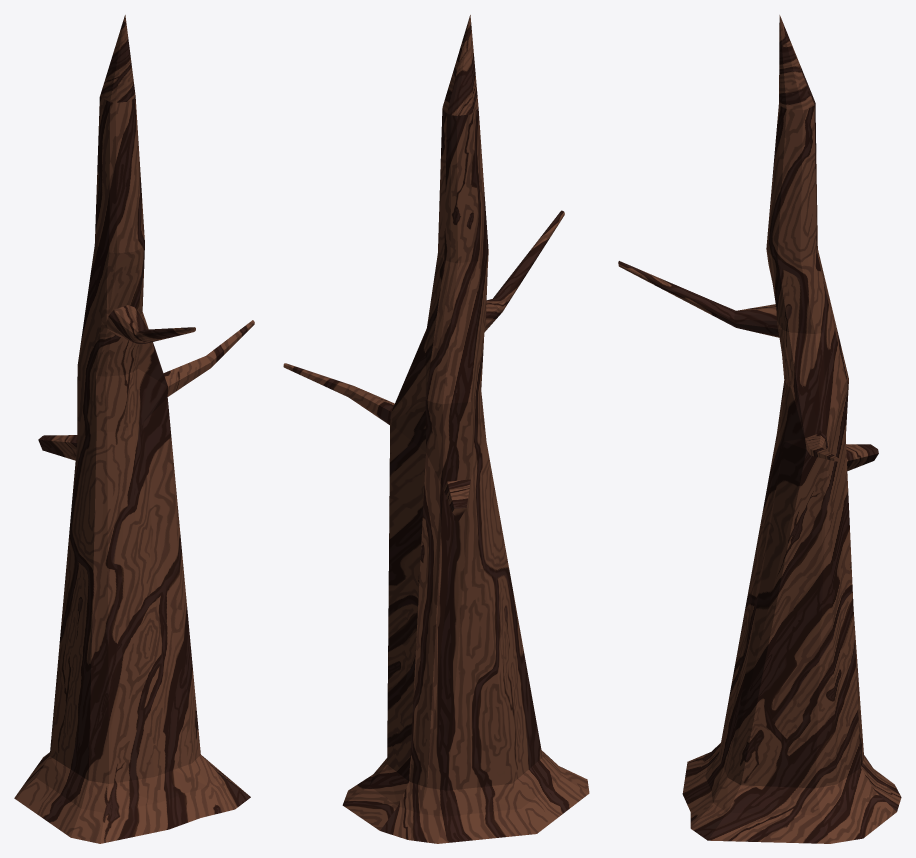
The model's file is Low tree 6.fbx.
3 renders of one model, left to right at view 1: azimuth 30°, elevation 25°; view 2: azimuth 150°, elevation 25°; view 3: azimuth 270°, elevation 25°, orthographic.
Visible parts, largest first — view 1: Pines_6; view 2: Pines_6; view 3: Pines_6.
Part boxes in pixels (x1=…): Pines_6: x1=14, y1=15, x2=254, y2=843; Pines_6: x1=283, y1=15, x2=589, y2=843; Pines_6: x1=618, y1=15, x2=901, y2=843.
Size of the model in its own units: 5.9 by 17.9 by 5.86.
